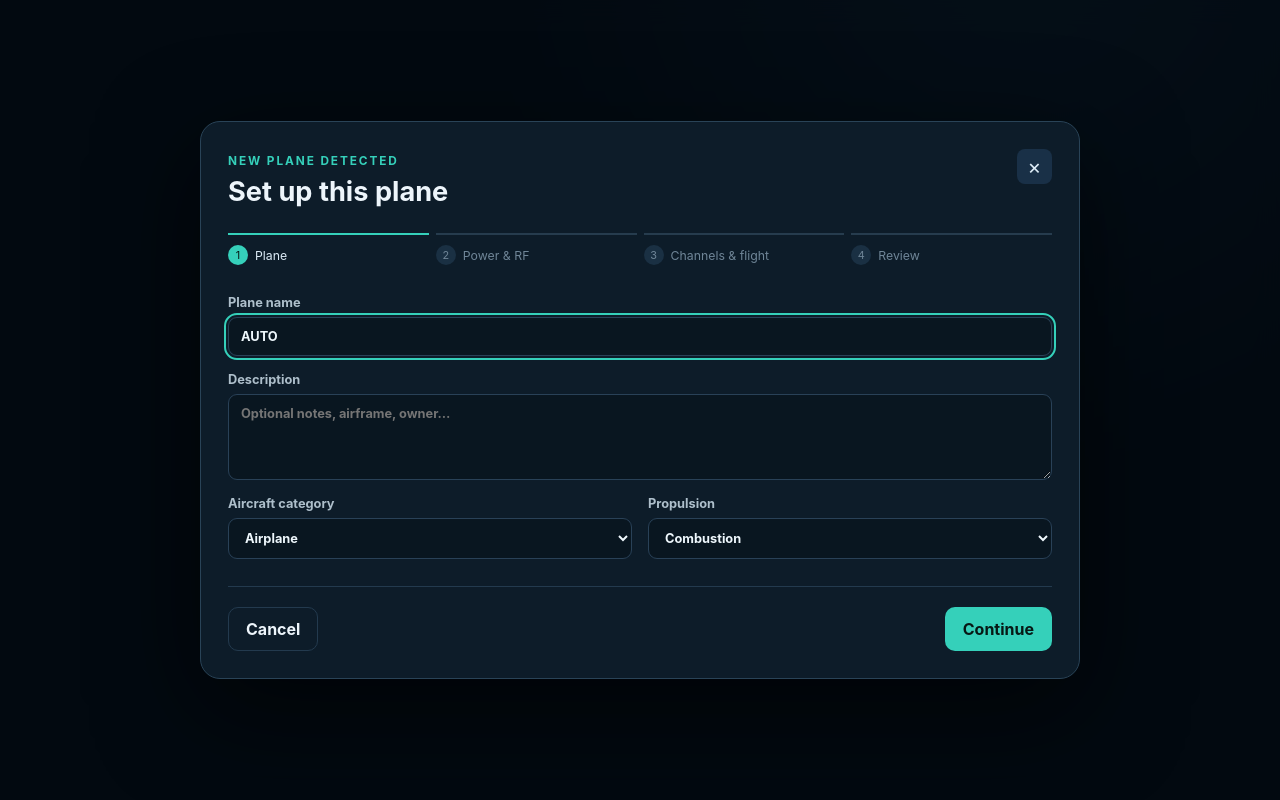
Test: new plane wizard › applies confidence-based telemetry suggestions while keeping them editable
Expected: the dropdown labelled "Propulsion" shows "Combustion", x1=648 y1=518 x2=1052 y2=559
Click the button "Continue".
click(998, 629)  # box x1=945 y1=607 x2=1052 y2=651
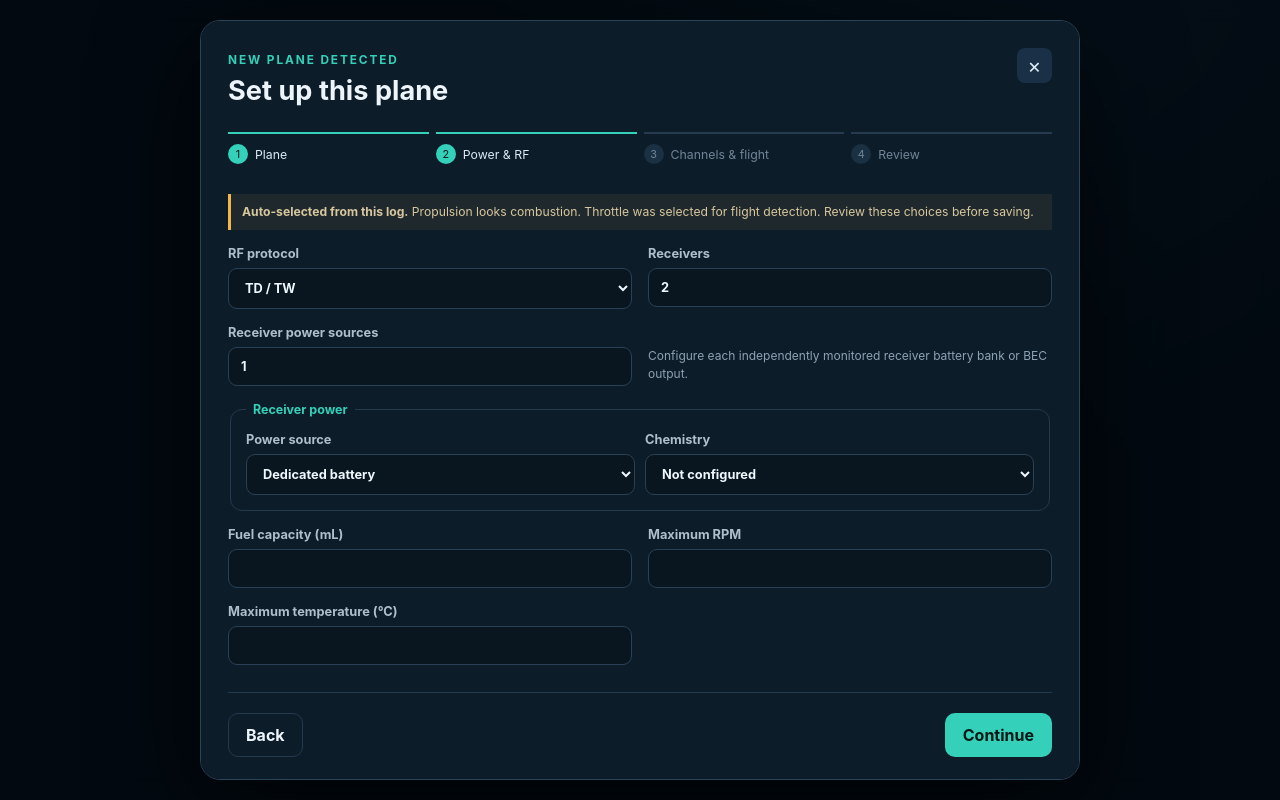
Result: the dropdown labelled "RF protocol" shows "TD / TW" at x1=228 y1=268 x2=632 y2=309
Result: the number field labelled "Receivers" holds "2" at x1=648 y1=268 x2=1052 y2=307
Result: the text "Auto-selected from this log." is shown at x1=242 y1=204 x2=408 y2=219
Click the button "Continue".
click(998, 735)  # box x1=945 y1=713 x2=1052 y2=757
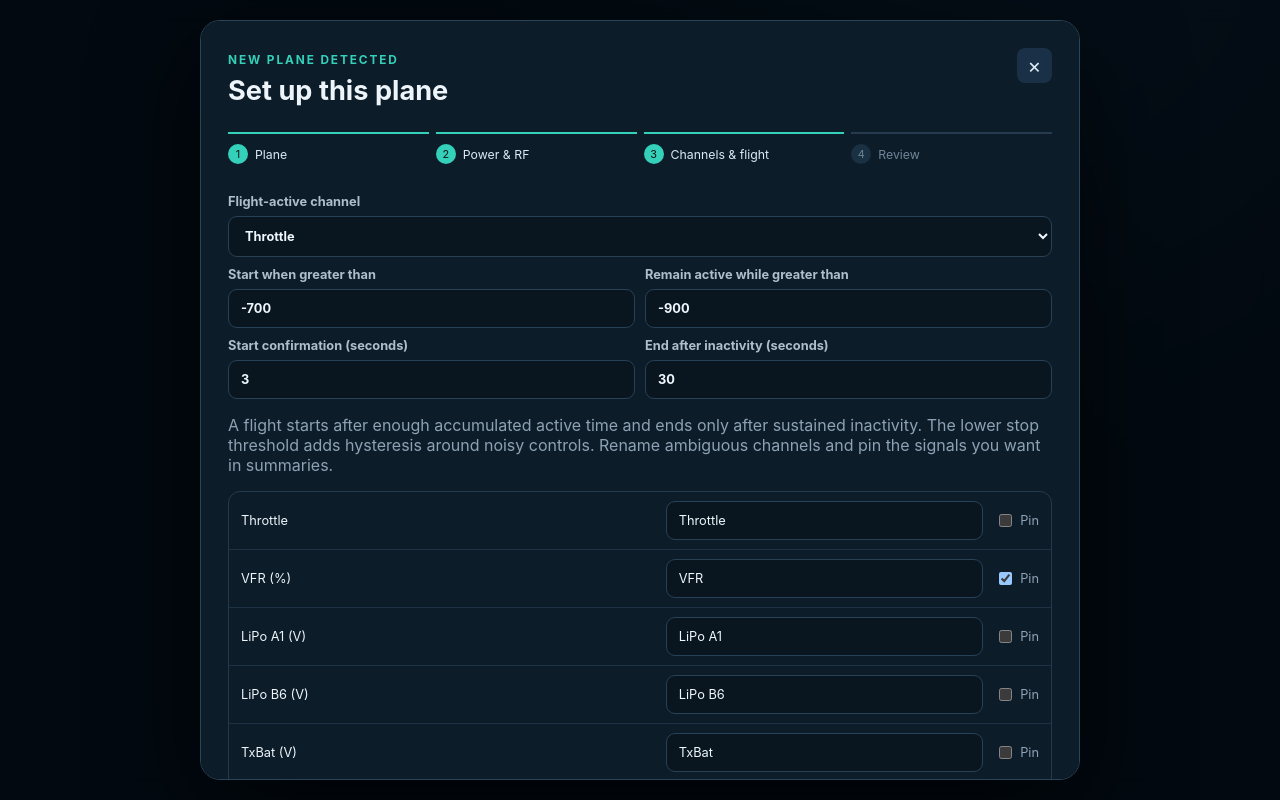
Result: the dropdown labelled "Flight-active channel" shows "Throttle" at x1=228 y1=216 x2=1052 y2=257
Result: the number field labelled "Start when greater than" holds "-700" at x1=228 y1=289 x2=635 y2=328
Result: the number field labelled "Remain active while greater than" holds "-900" at x1=645 y1=289 x2=1052 y2=328
